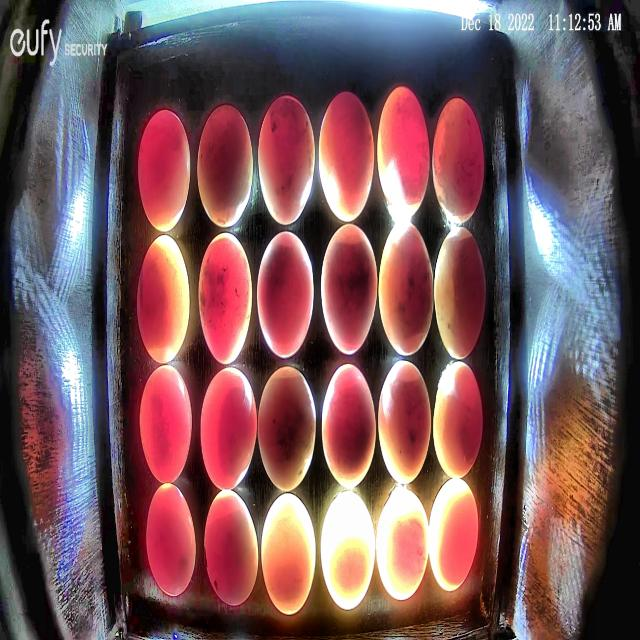DE: (375, 487, 429, 602), (428, 478, 479, 592)
FE: (378, 218, 434, 357), (257, 95, 315, 225), (320, 224, 377, 356), (258, 366, 317, 492), (257, 231, 315, 359), (318, 90, 374, 222), (198, 233, 253, 365), (200, 365, 257, 491), (376, 85, 429, 218), (434, 226, 486, 360), (321, 363, 376, 489), (136, 236, 190, 364), (197, 105, 253, 227), (378, 359, 431, 486), (432, 96, 484, 224), (137, 109, 190, 232), (203, 490, 259, 605), (140, 364, 193, 484), (432, 360, 483, 480), (146, 482, 196, 598)
UF: (260, 493, 317, 615), (321, 488, 375, 610)
